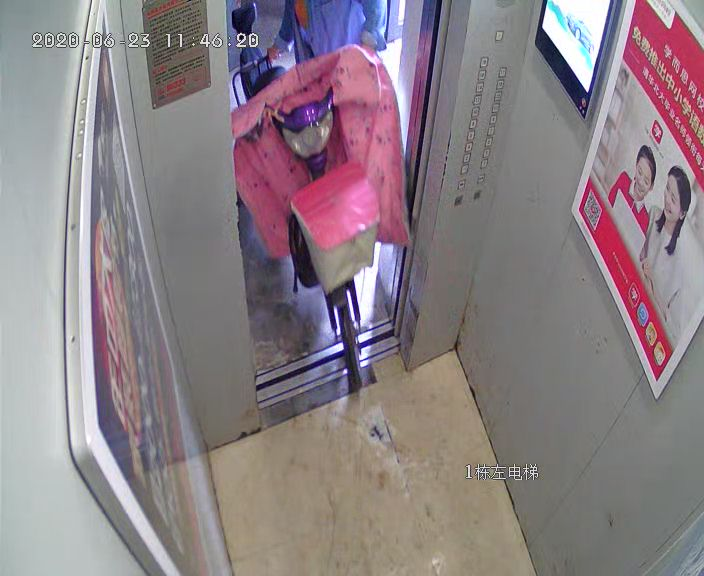Electric-bicycle: (236, 13, 396, 385)
